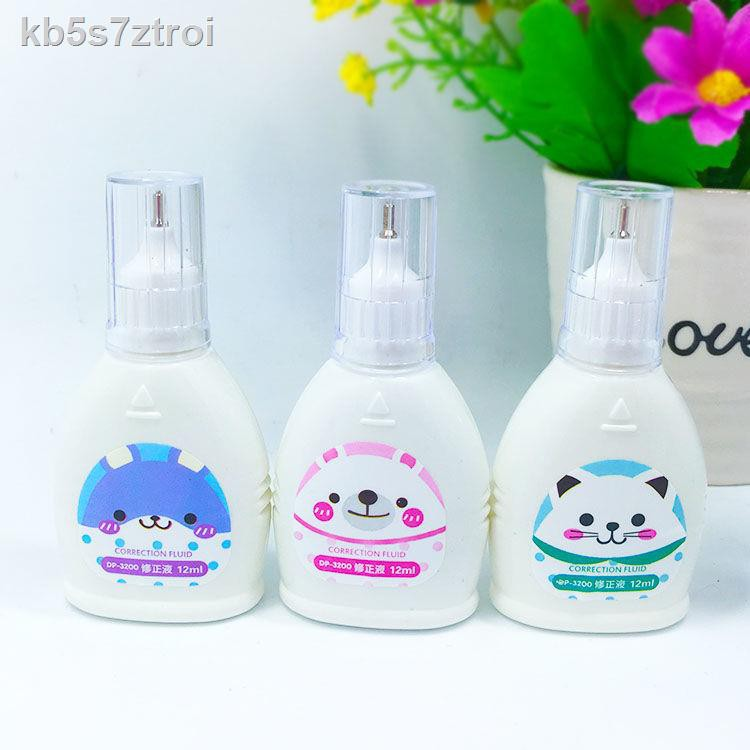Correction_fluid: (482, 169, 718, 646), (47, 161, 280, 630), (263, 174, 493, 633)
